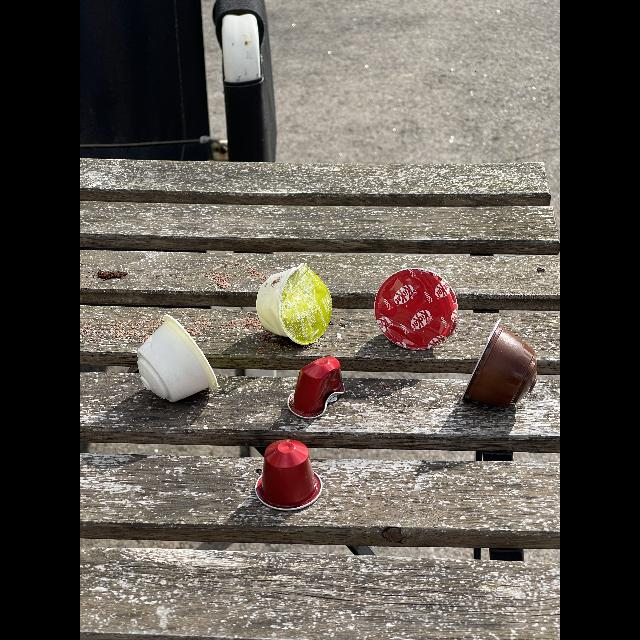damaged_capsule: (372, 261, 472, 353), (249, 261, 339, 347), (282, 355, 363, 421)
intact_capsule: (130, 310, 222, 406), (460, 313, 544, 415), (248, 432, 328, 514)
